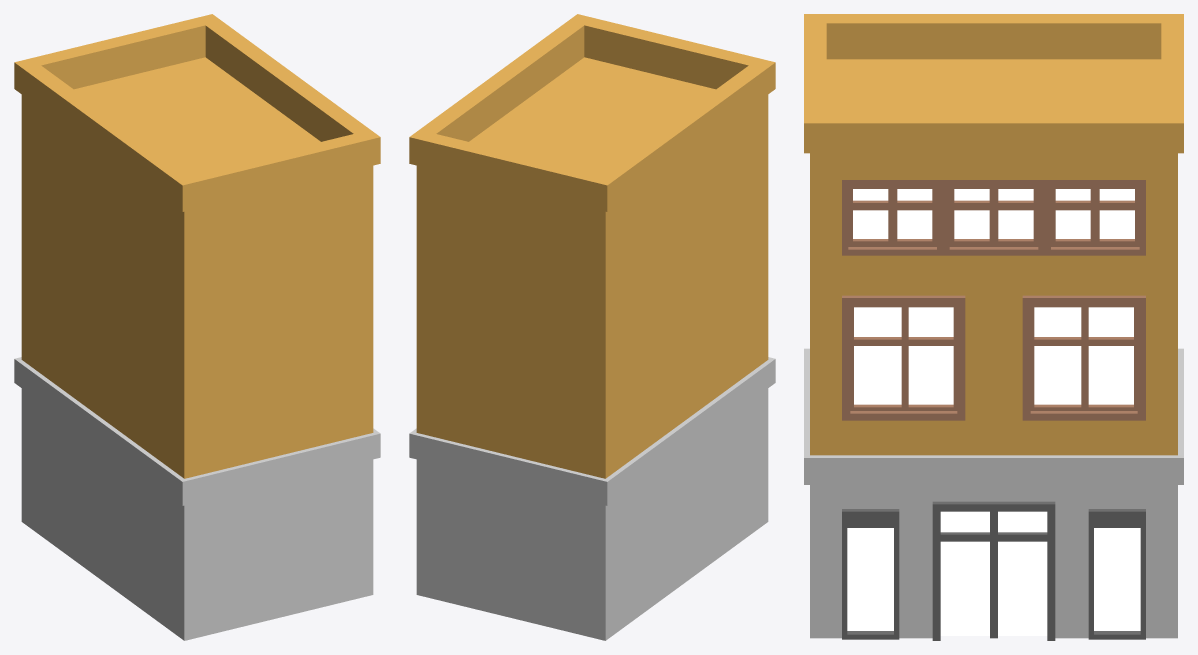
File: House 5.3.fbx
The picture shows the model from 3 angles, left to right: view 1: azimuth 30°, elevation 25°; view 2: azimuth 150°, elevation 25°; view 3: azimuth 270°, elevation 25°; orthographic projection. The views are drawn at different scales.
Parts seen in each view (by area): view 1: House 5.004; view 2: House 5.004; view 3: House 5.004.
Boxes of the visible parts, x1,y1,x2,y2 form: House 5.004: (14, 14, 380, 640); House 5.004: (409, 14, 775, 640); House 5.004: (804, 14, 1183, 640).
Bounding box in the file's own units: 869 × 1923 × 1279.
